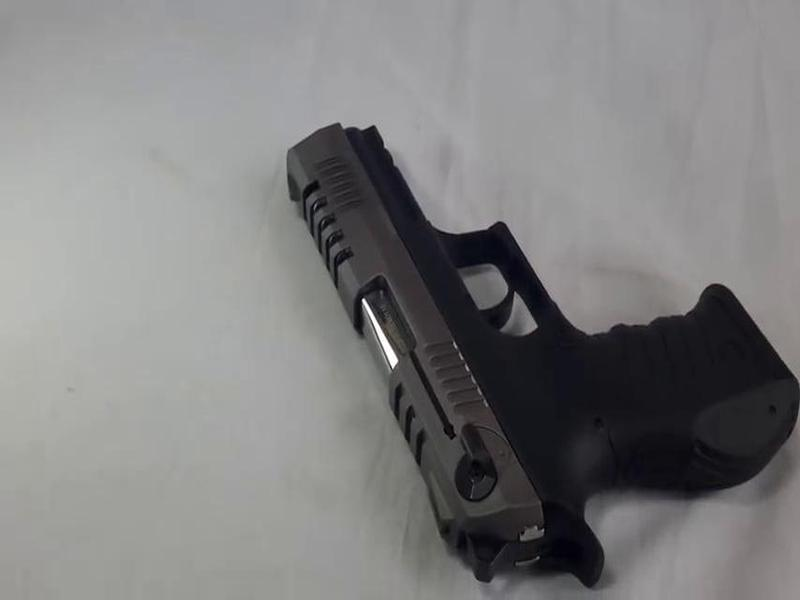Pistola: (232, 86, 800, 559)
